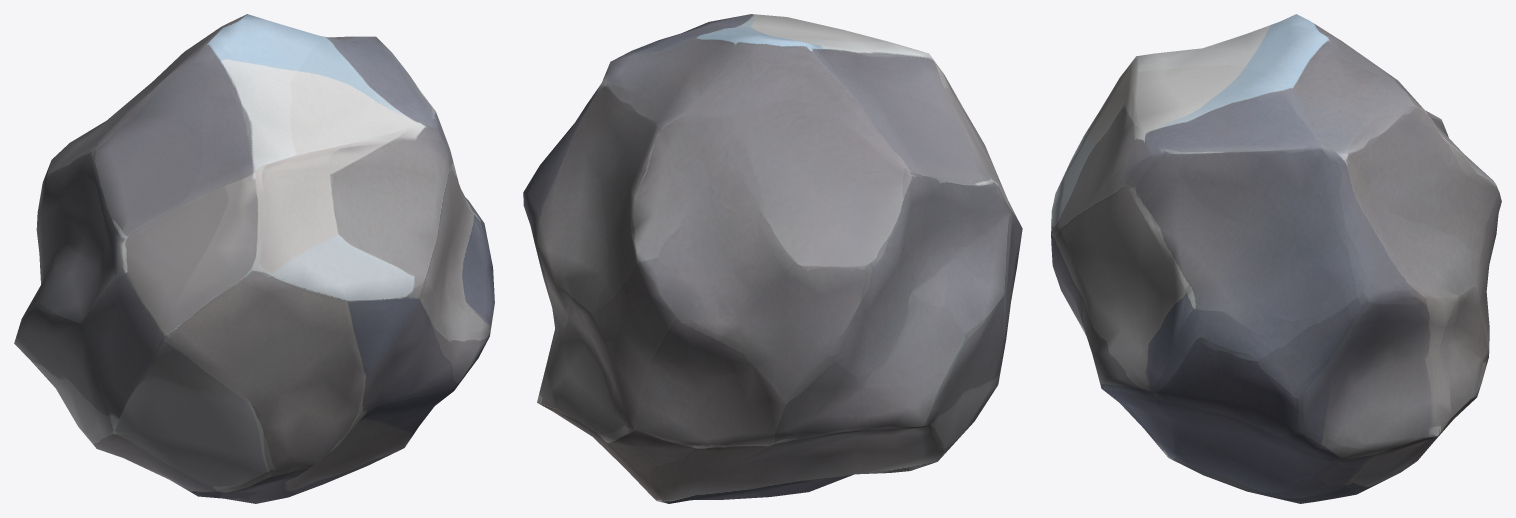
The model's file is OreChunkSilver.glb.
The picture shows the model from 3 angles, left to right: view 1: azimuth 30°, elevation 25°; view 2: azimuth 150°, elevation 25°; view 3: azimuth 270°, elevation 25°; orthographic projection. The views are drawn at different scales.
Parts seen in each view (by area): view 1: texture_mapping; view 2: texture_mapping; view 3: texture_mapping.
Boxes of the visible parts, x1,y1,x2,y2 form: texture_mapping: (14,14,494,503); texture_mapping: (523,14,1022,503); texture_mapping: (1051,14,1501,503).
Size of the model in its own units: 0.9689 by 1 by 0.9141.
1 material, 1 textured.
